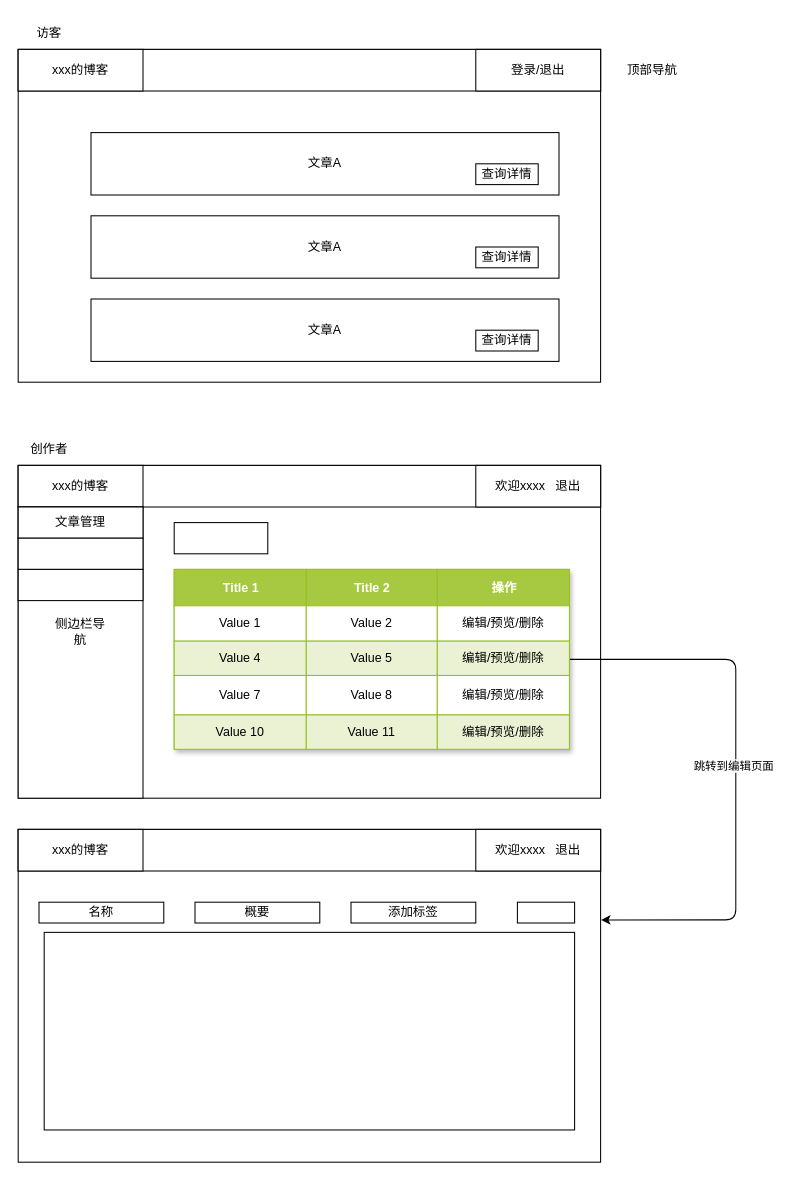
Image size: 791x1180. Some labels were removed from this diagram. The centre of each missing label's shape, as x and y in pixels:
"maridown内容编辑区, 默认controle + s 保持" goes at (309,1030).
"保持" goes at (545,912).
"文章创建" goes at (220,538).
